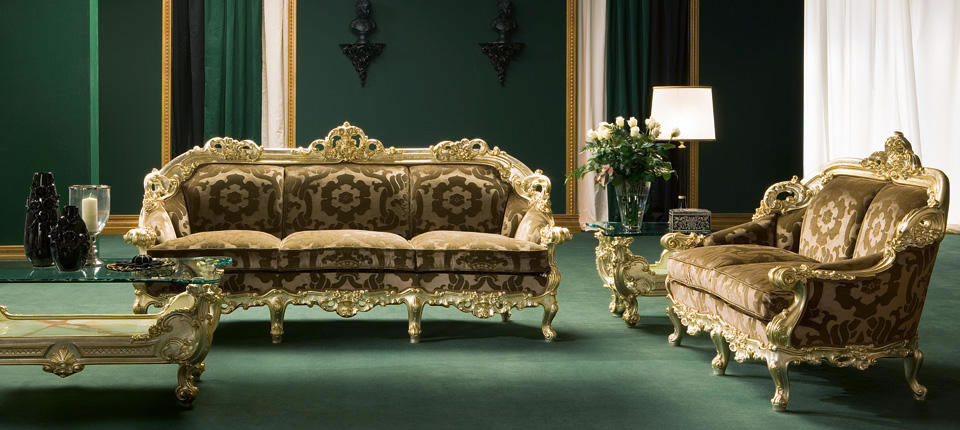Carving Chair: (130, 128, 592, 347), (680, 152, 932, 410)
